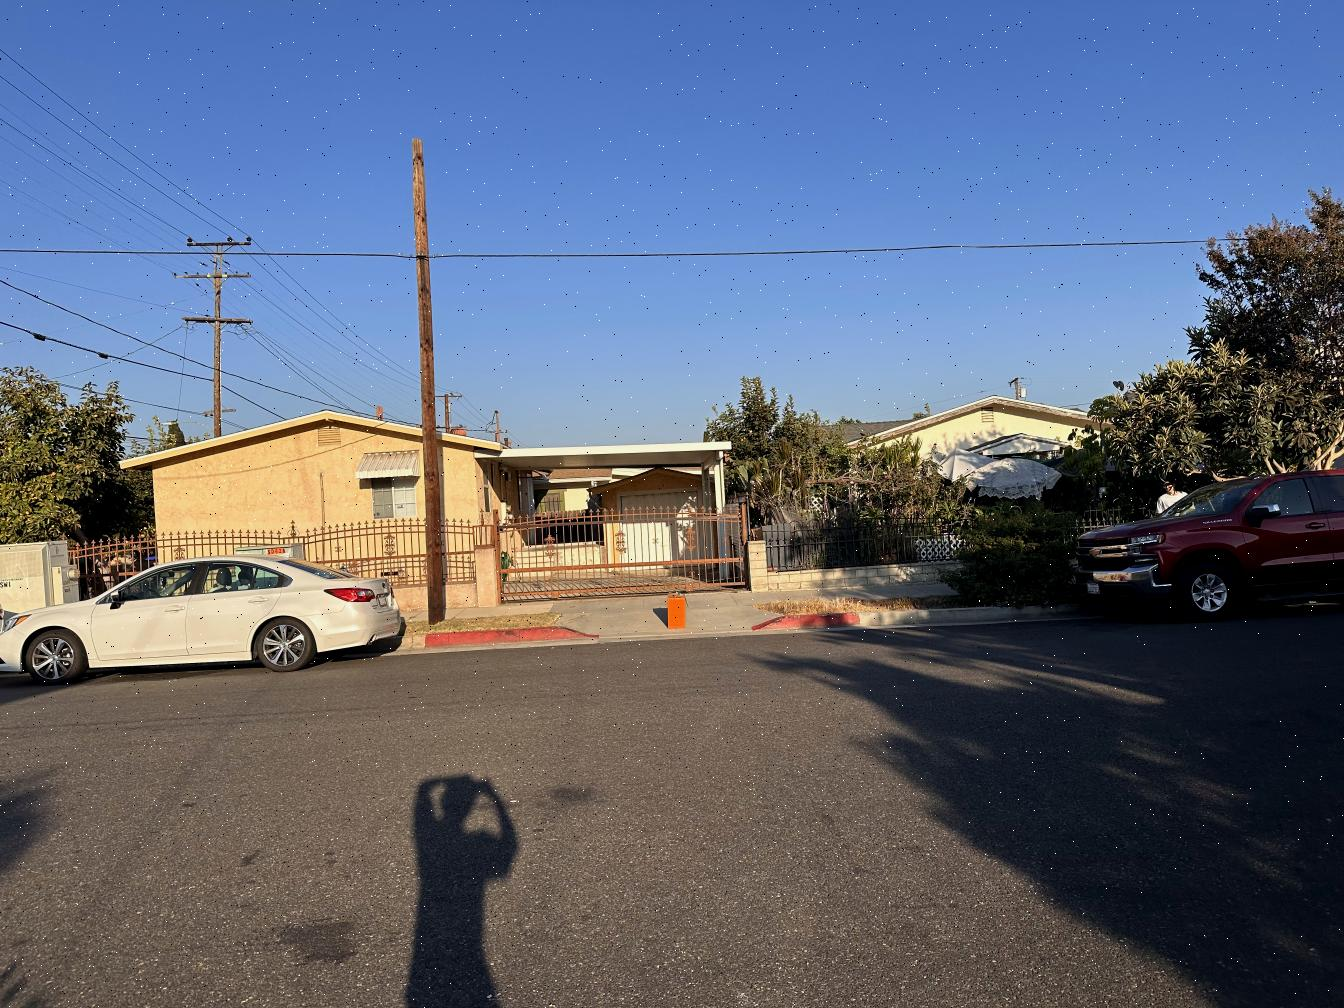curbs-laRr: (865, 599, 1071, 632)
orange box: (667, 592, 689, 630)
